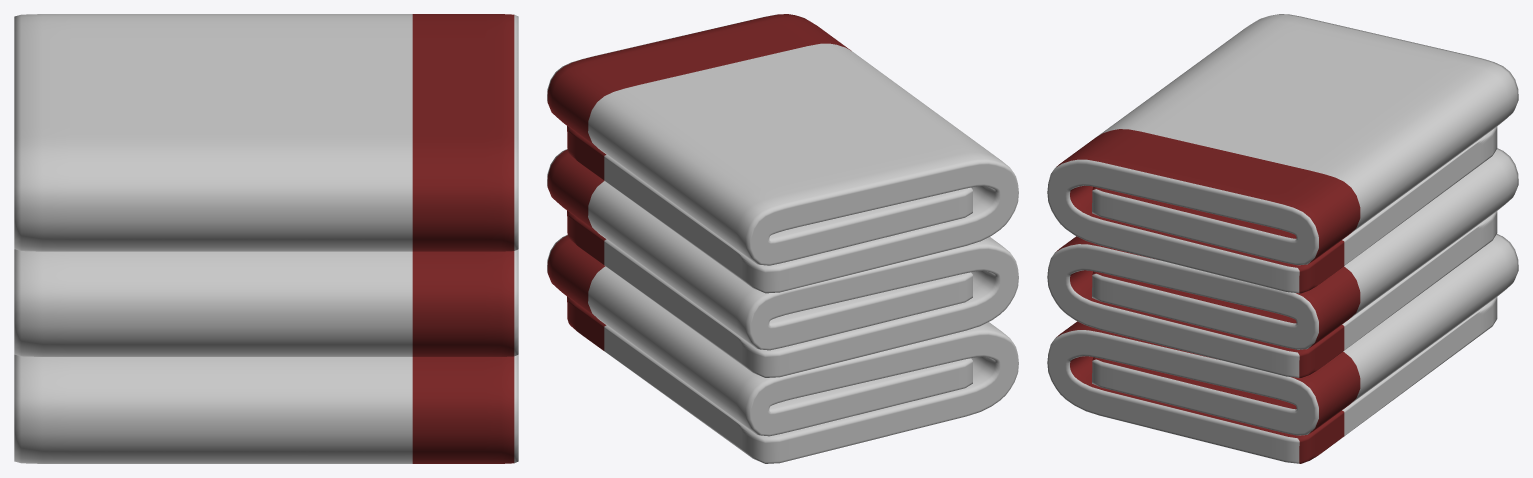
Rendered from 4e0234fe-7e47-44f9-8b3a-1cf0781b2bdb.glb.
The picture shows the model from 3 angles, left to right: view 1: azimuth 30°, elevation 25°; view 2: azimuth 150°, elevation 25°; view 3: azimuth 270°, elevation 25°; orthographic projection. The views are drawn at different scales.
Visible parts, largest first — view 1: Line006, Line004, Line005; view 2: Line006, Line004, Line005; view 3: Line006, Line004, Line005.
Part boxes in pixels (bbox=[...]): Line006: bbox=[14, 14, 518, 251]; Line004: bbox=[14, 354, 518, 463]; Line005: bbox=[14, 249, 518, 356]; Line006: bbox=[547, 14, 1018, 293]; Line004: bbox=[547, 234, 1018, 463]; Line005: bbox=[547, 149, 1018, 377]; Line006: bbox=[1047, 14, 1518, 293]; Line004: bbox=[1047, 234, 1518, 463]; Line005: bbox=[1047, 148, 1518, 377].
Size of the model in its own units: 29.52 by 16.61 by 27.5.
